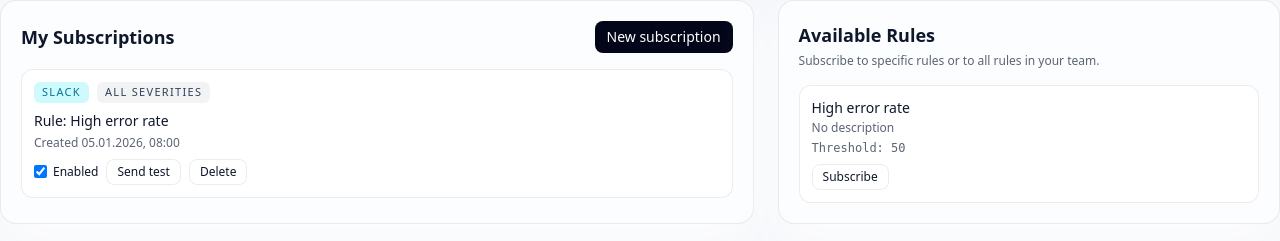
subscription config stays on the server › toggling enabled keeps the row free of the config the API echoes back
Click the checkbox.
click(40, 172)  # box [34, 165, 47, 178]
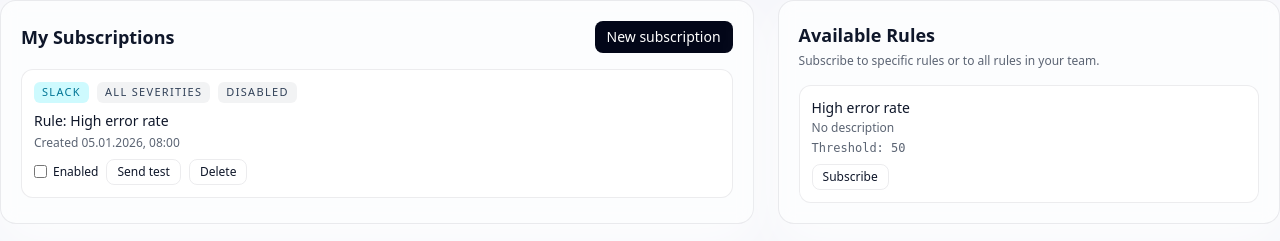
Now the text "DISABLED" is shown, box [218, 82, 297, 102]
